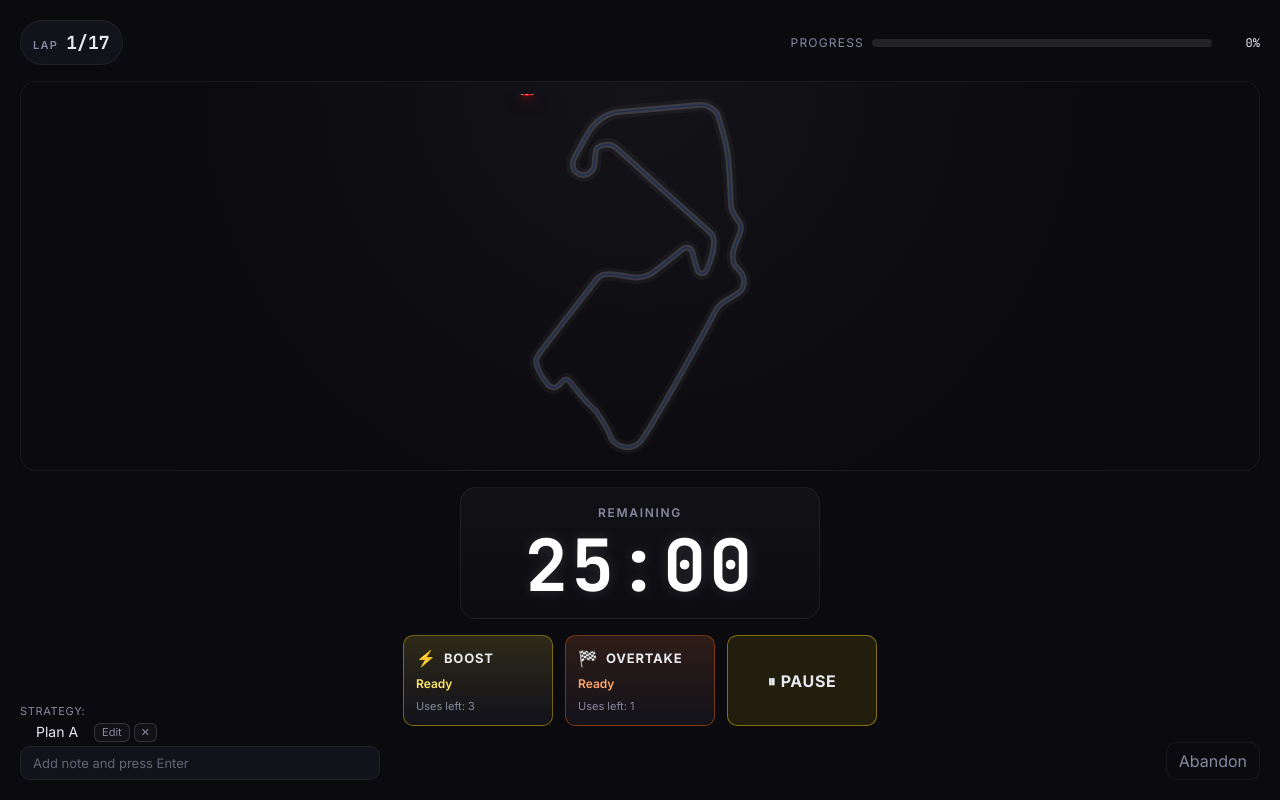
Test: RaceScreen running session › edits an existing strategy note from the HUD
Click the button with aria-label "Edit strategy note".
click(112, 732)  # box [94,723,130,742]
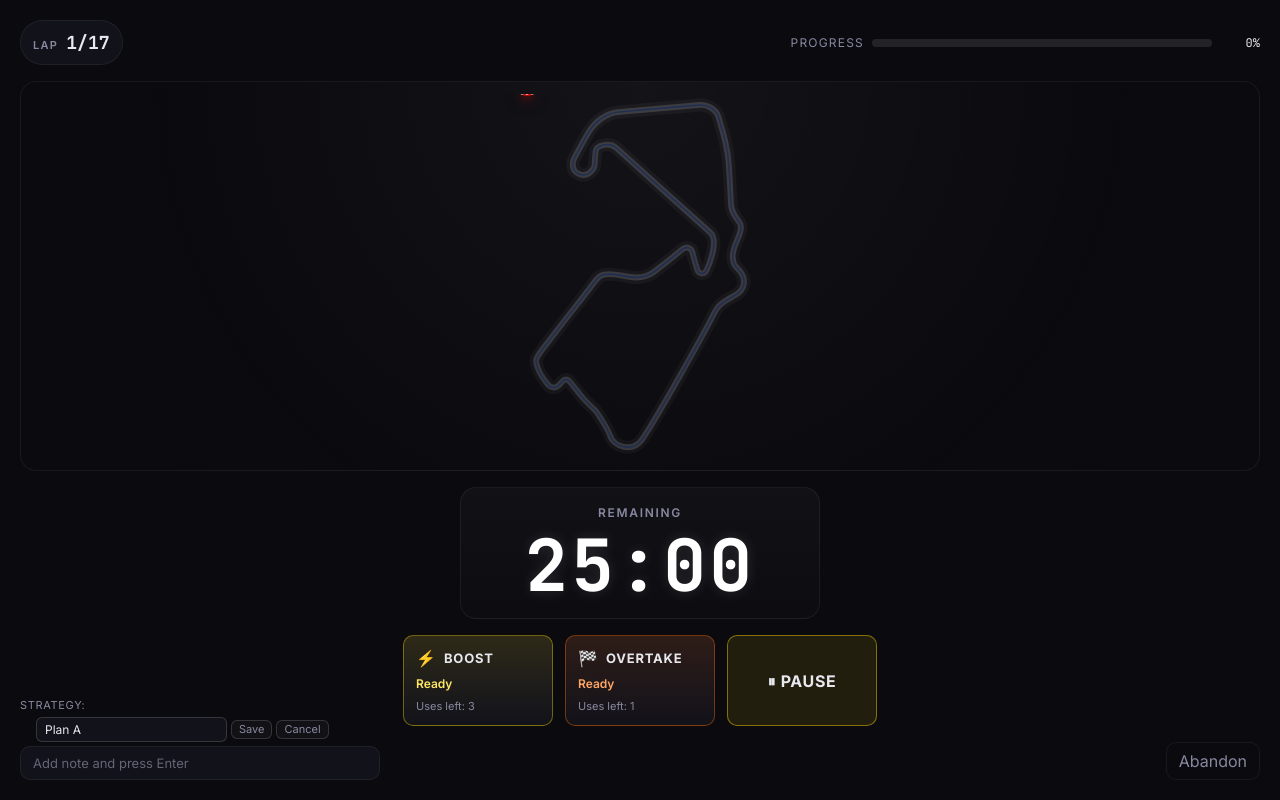
Replace the text in the field named "Edit strategy note text" with "Plan B" at (132, 730), box [36,717,227,742]
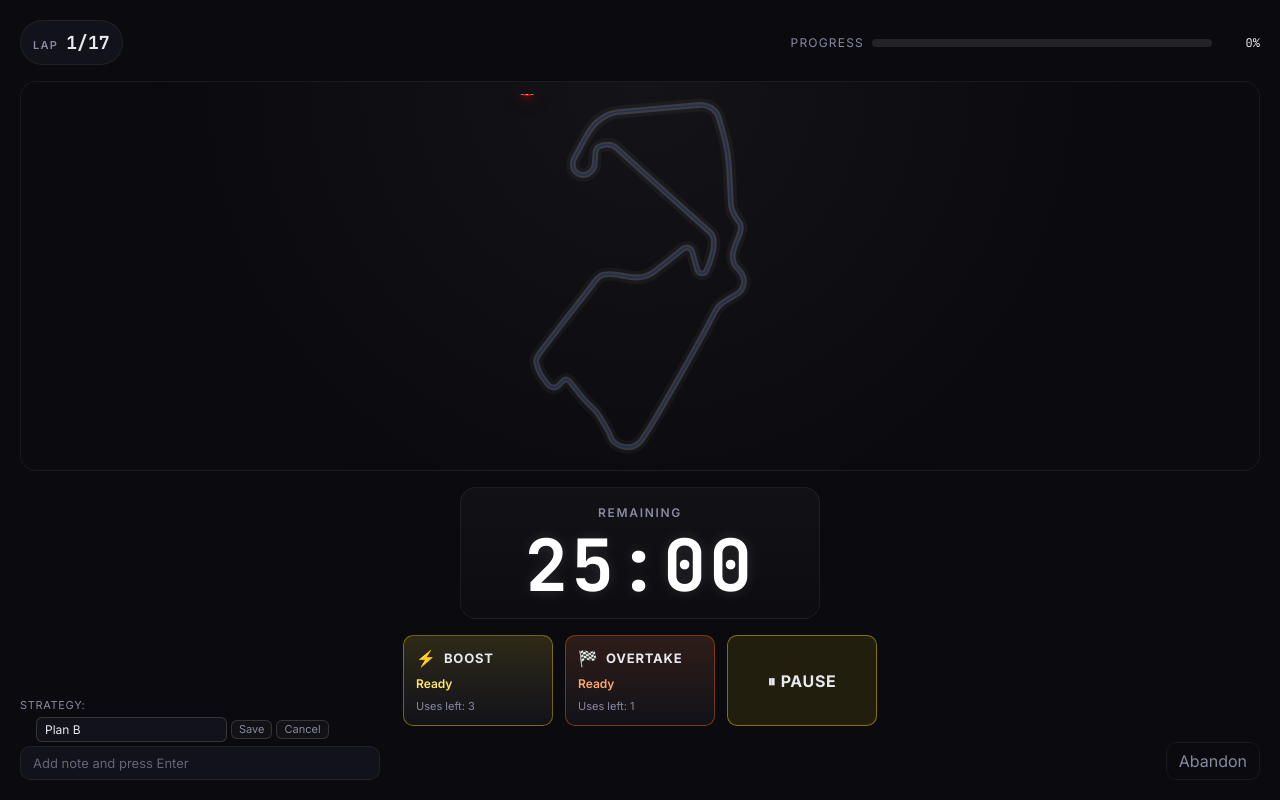
Click the button with aria-label "Save edited strategy note".
click(252, 730)  # box [231,720,272,739]
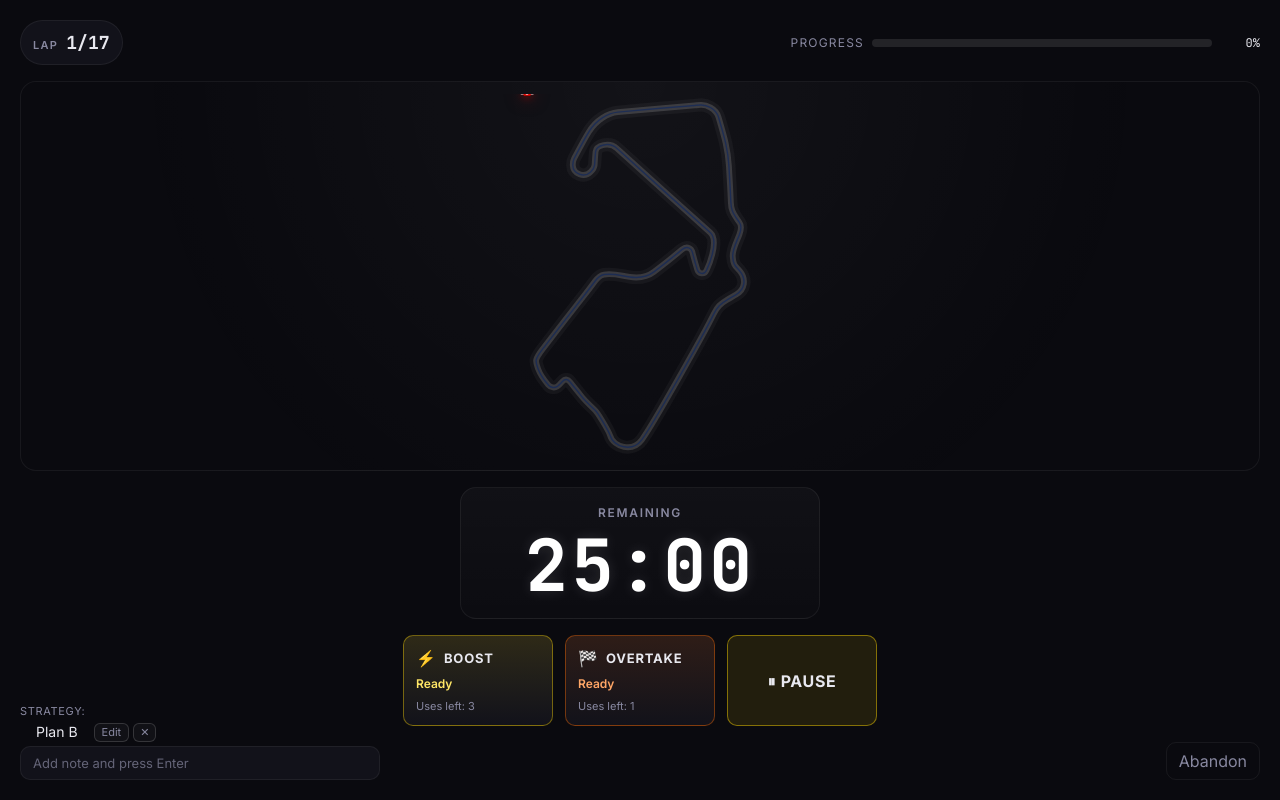
Check: the text "Plan B" is shown, box [36,723,78,742]
